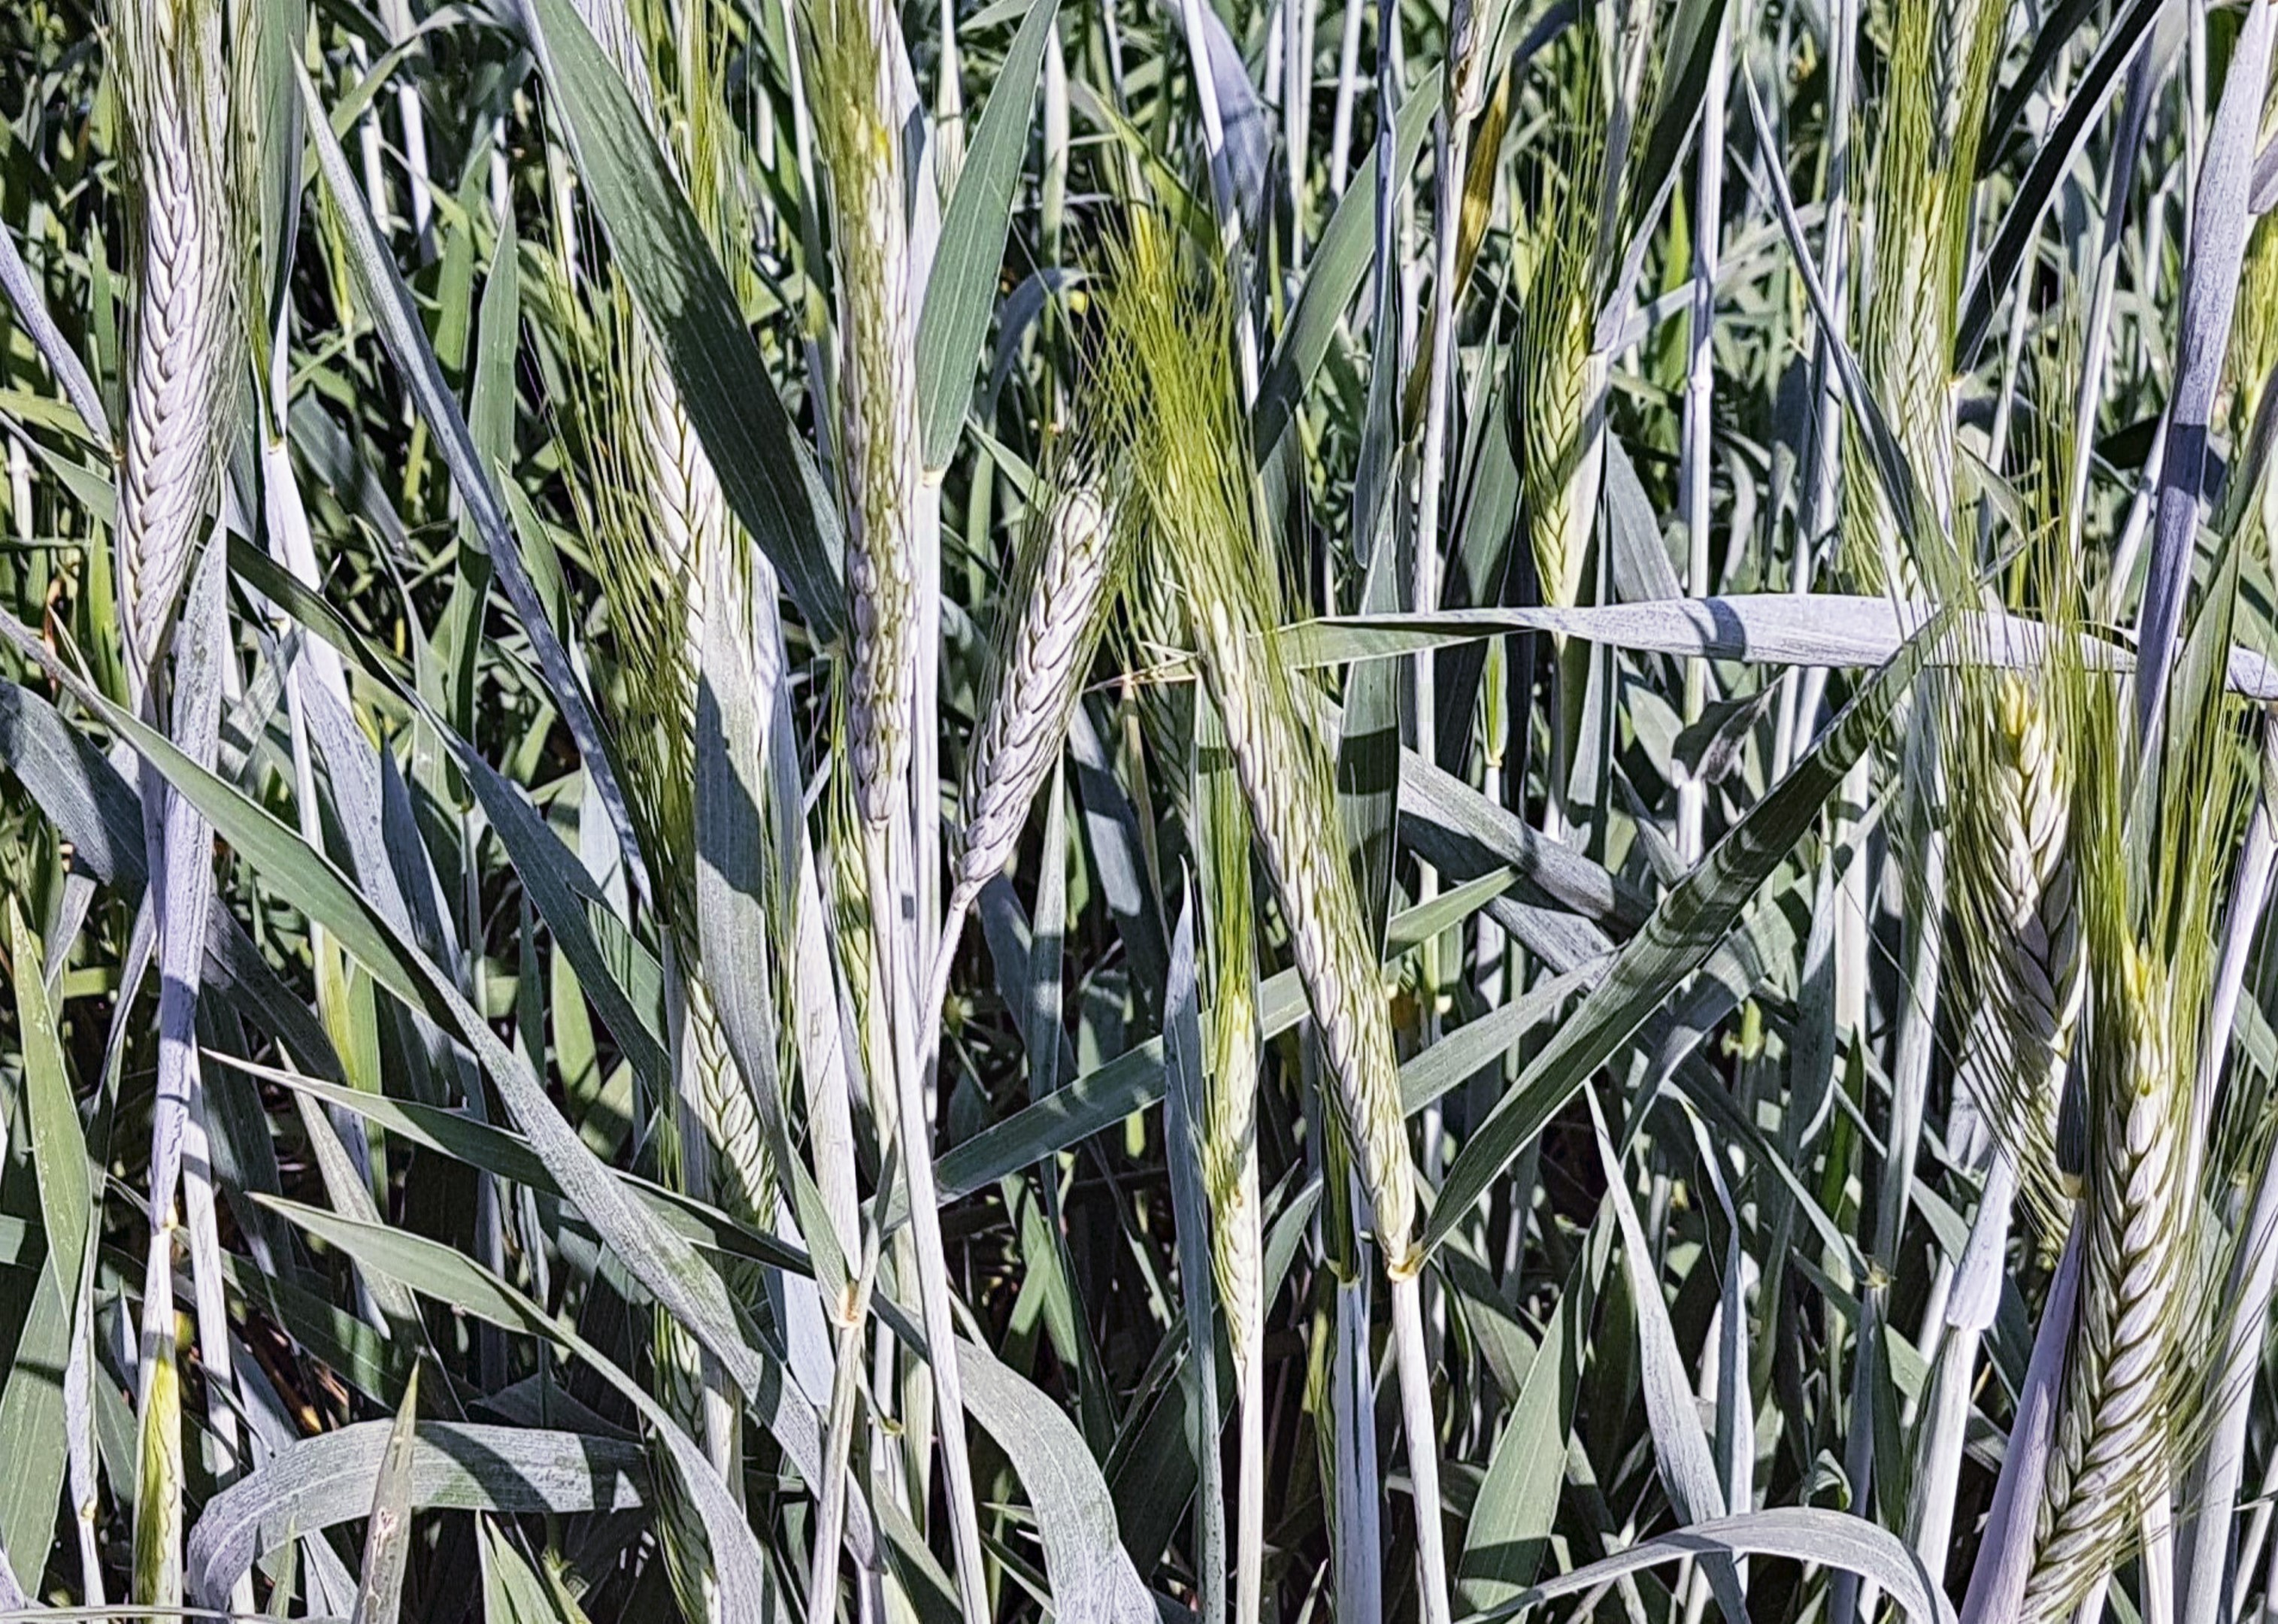Healthy Wheat: (956, 473, 1134, 889), (112, 54, 230, 671)
